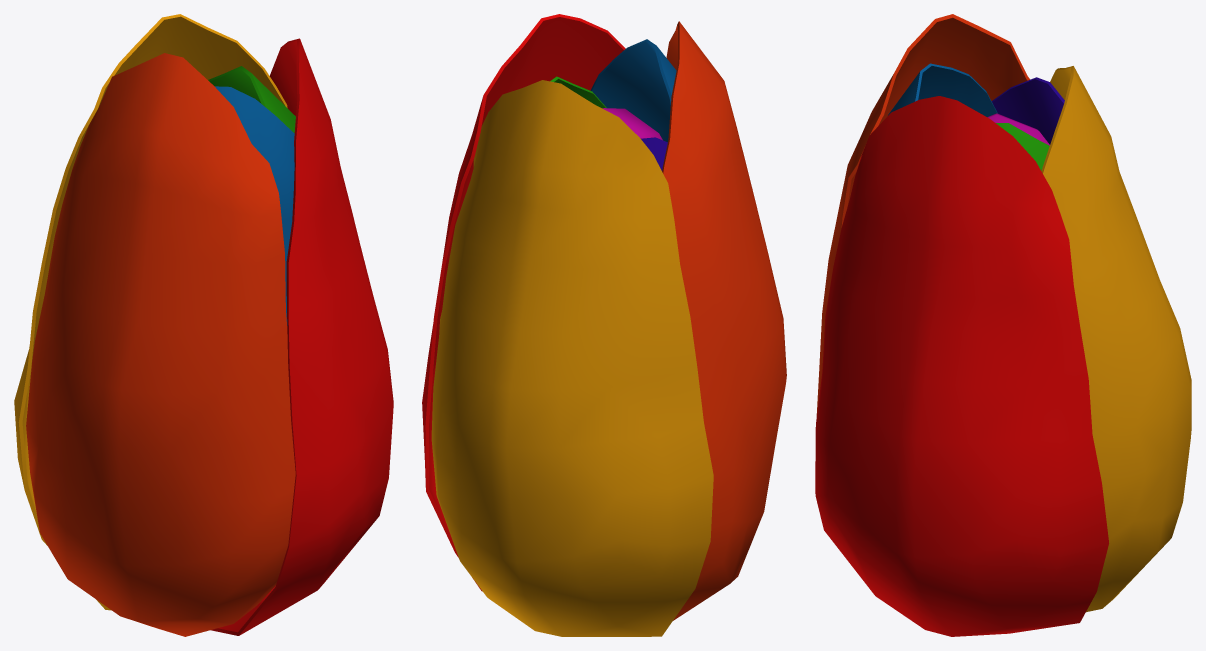
The model's file is Napa Cabbage.fbx.
3 views of the same model, side by side, from view 1: azimuth 30°, elevation 25°; view 2: azimuth 150°, elevation 25°; view 3: azimuth 270°, elevation 25° (orthographic).
Visible parts, largest first — view 1: Napa Cabbage; view 2: Napa Cabbage; view 3: Napa Cabbage.
Boxes of the visible parts, x1,y1,x2,y2 form: Napa Cabbage: (14, 14, 393, 636); Napa Cabbage: (422, 14, 786, 636); Napa Cabbage: (815, 14, 1191, 636).
Bounding box in the file's own units: 1.2 × 2.2 × 1.27.
